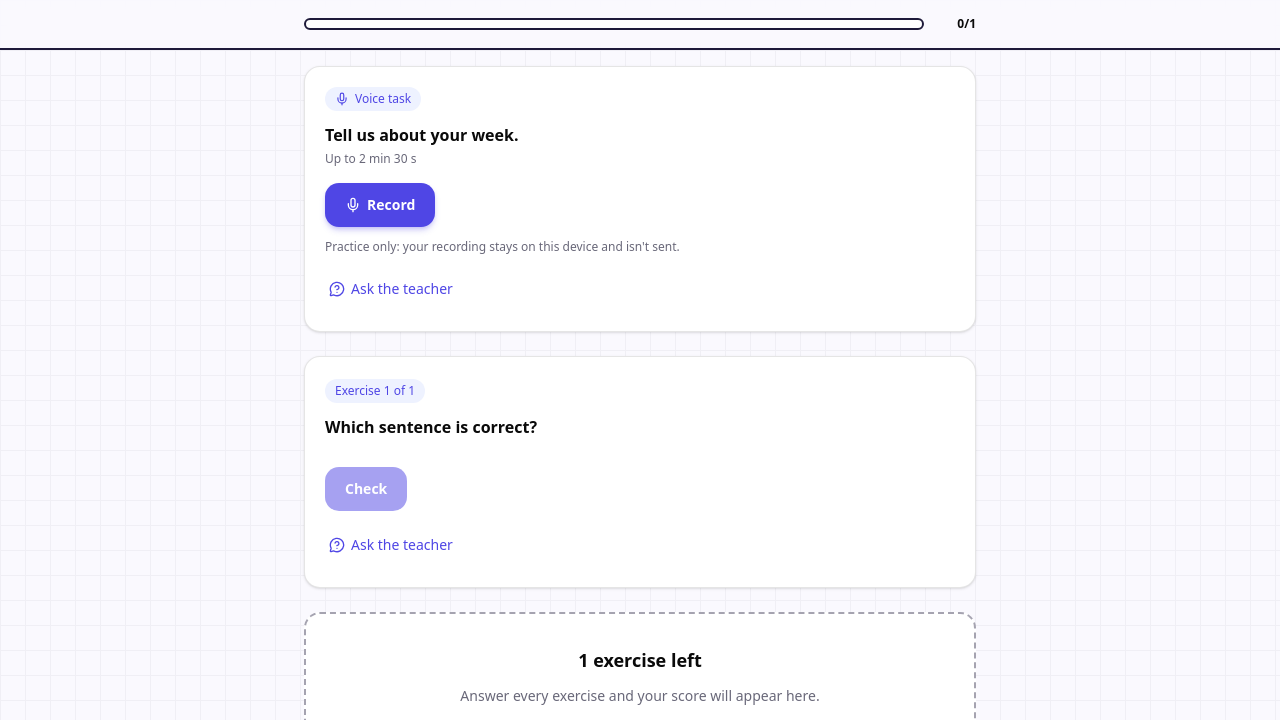
Test case: LessonPlayer — Ask the teacher (TCH-006) › opens on the exercise, 'Exercise 1' even though a voice task comes first, without the answer key
Expected: the text "Which sentence is correct?" is shown, [325,416,537,438]
Click the button "Ask the teacher" below "Which sentence is correct?": (391, 545) [325,523,457,567]
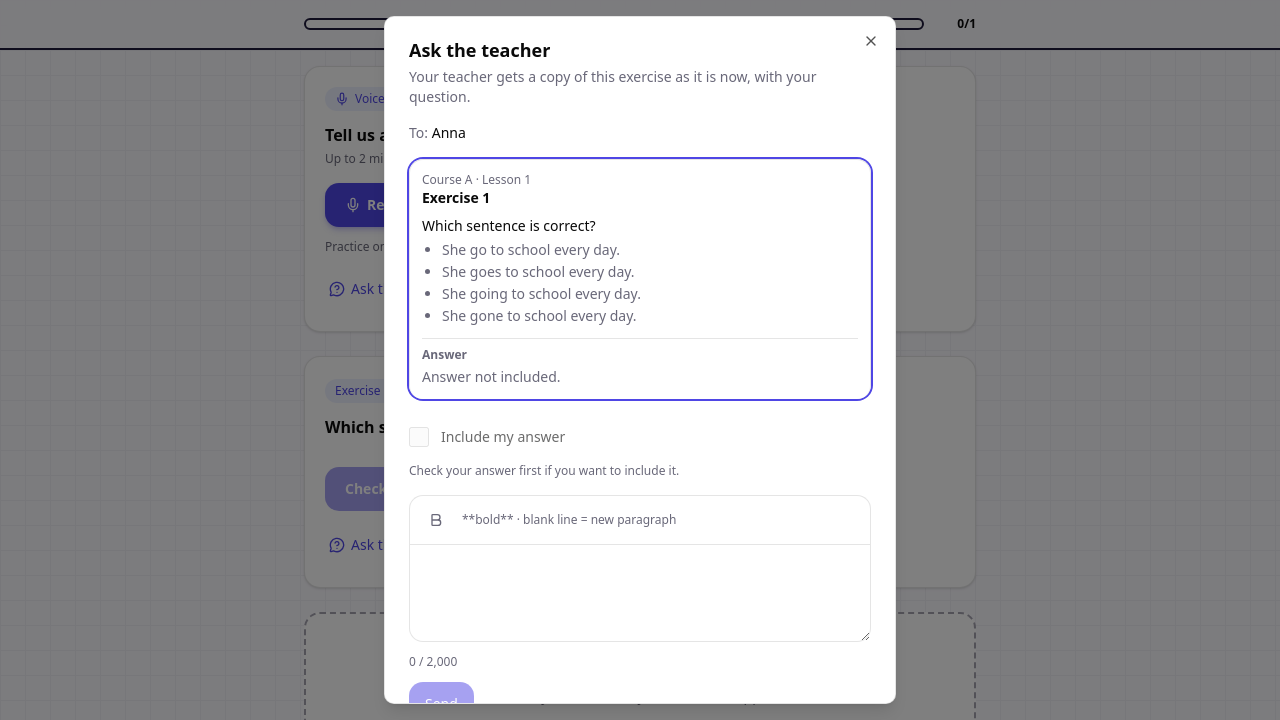
Expected: the dialog shows "Course A · Lesson 1", [384,16,896,704]
Expected: the dialog shows "Exercise 1", [422,188,490,207]
Expected: the dialog shows "She go to school every day.", [442,240,620,259]
